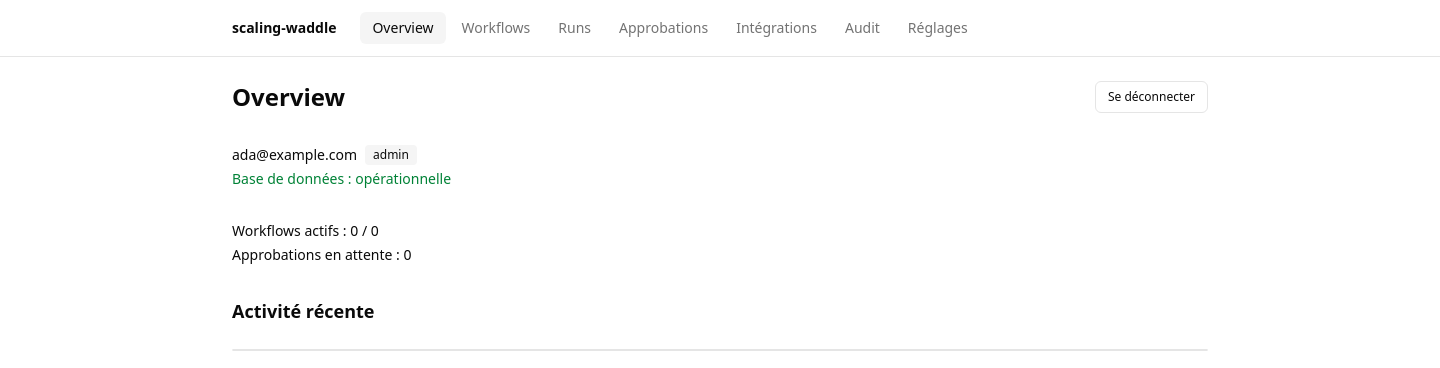
Test: App routing › opens the approvals page from the navigation
The width and height of the screenshot is (1440, 368).
Step 1. Click the link "Approbations" → click(664, 28), box [619,18,708,37]
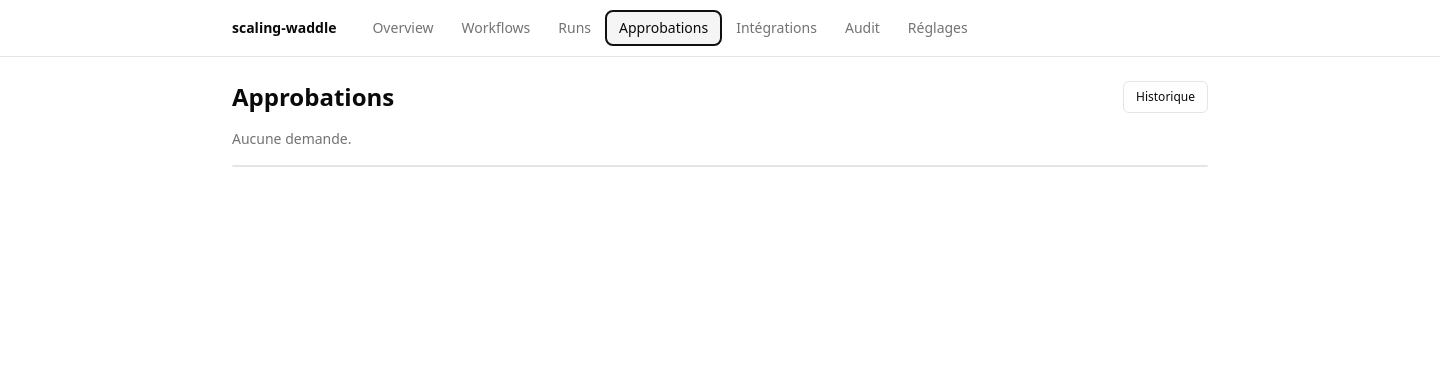
Expected: the text "Aucune demande." is shown, [232,129,352,148]
